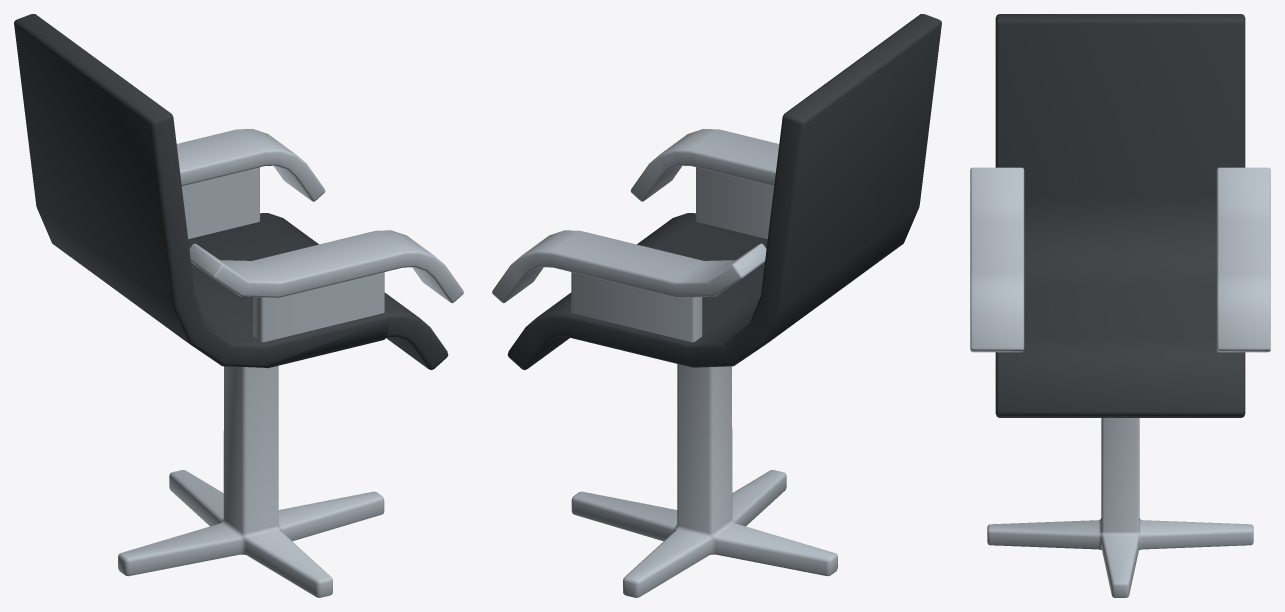
File: Sandalye.fbx
3 views of the same model, side by side, from view 1: azimuth 30°, elevation 25°; view 2: azimuth 150°, elevation 25°; view 3: azimuth 270°, elevation 25° (orthographic). The views are drawn at different scales.
Visible parts, largest first — view 1: PCChair; view 2: PCChair; view 3: PCChair.
Boxes of the visible parts, bbox=[...] form: PCChair: bbox=[14, 14, 463, 597]; PCChair: bbox=[492, 14, 941, 597]; PCChair: bbox=[970, 14, 1270, 597].
Size of the model in its own units: 194 by 320 by 190.
